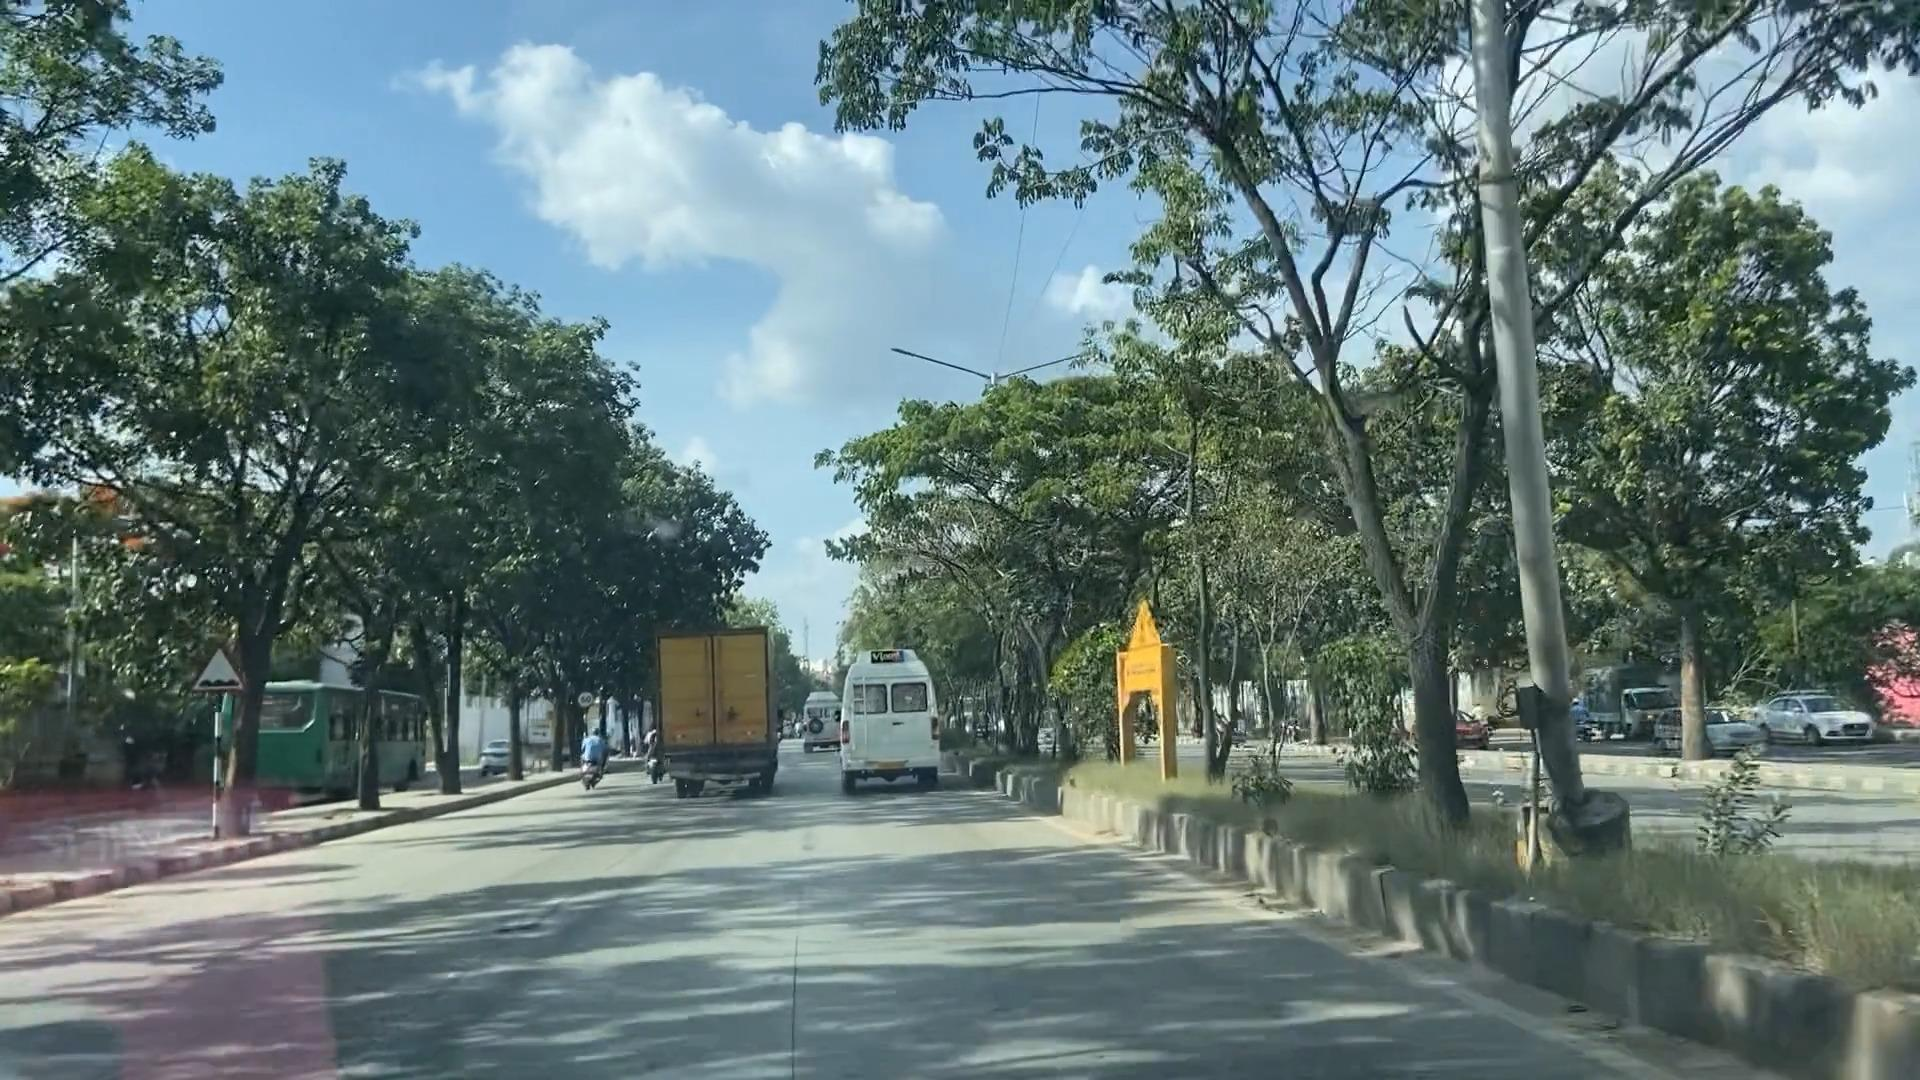HMV: (657, 638, 781, 789), (853, 640, 939, 785)
RoadDamages: (495, 868, 604, 1015)
